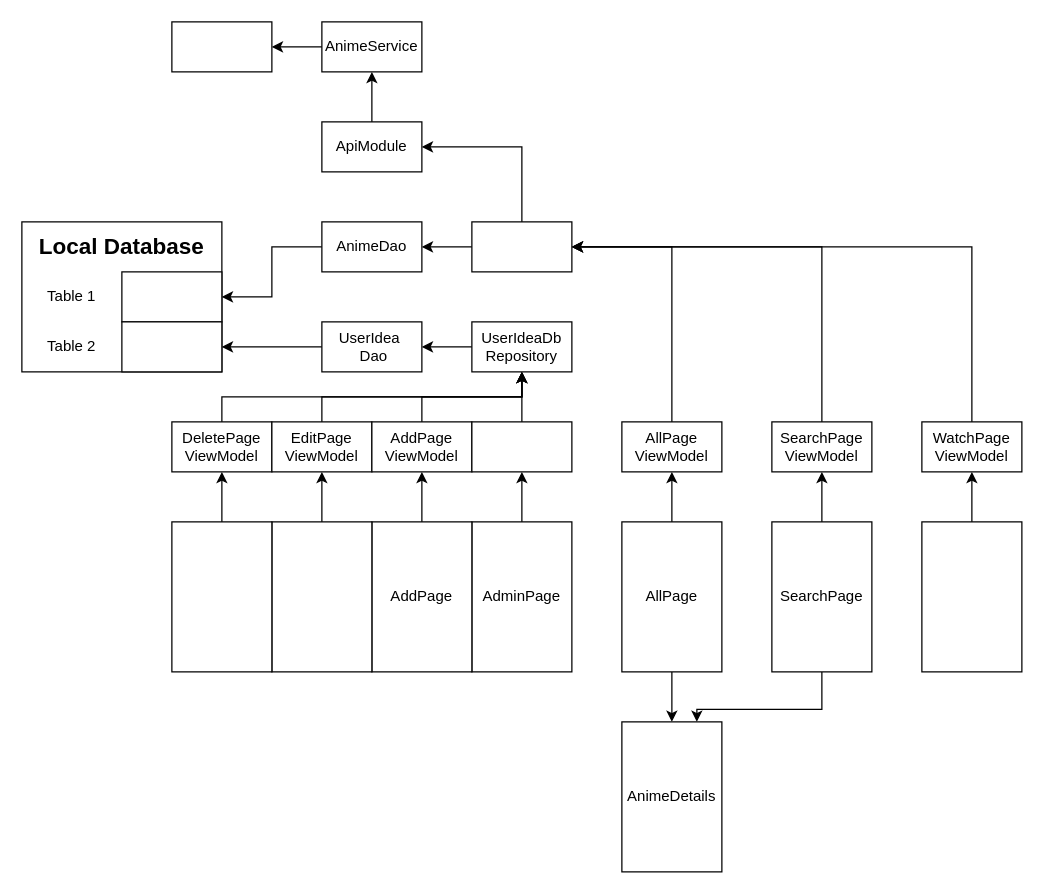
Some shapes in this 1044 by 894 pixel diagram are drawn without their labels. Each missing label, with the box of its shape:
AdminPage ViewModel: (471, 421, 572, 472)
Anime Repository: (471, 221, 572, 272)
Animes: (121, 271, 222, 322)
API Endpoint: (171, 21, 272, 72)
DeletePage: (171, 521, 272, 672)
EditPage: (271, 521, 372, 672)
UserIdeas: (121, 321, 222, 372)
WatchPage: (921, 521, 1022, 672)
